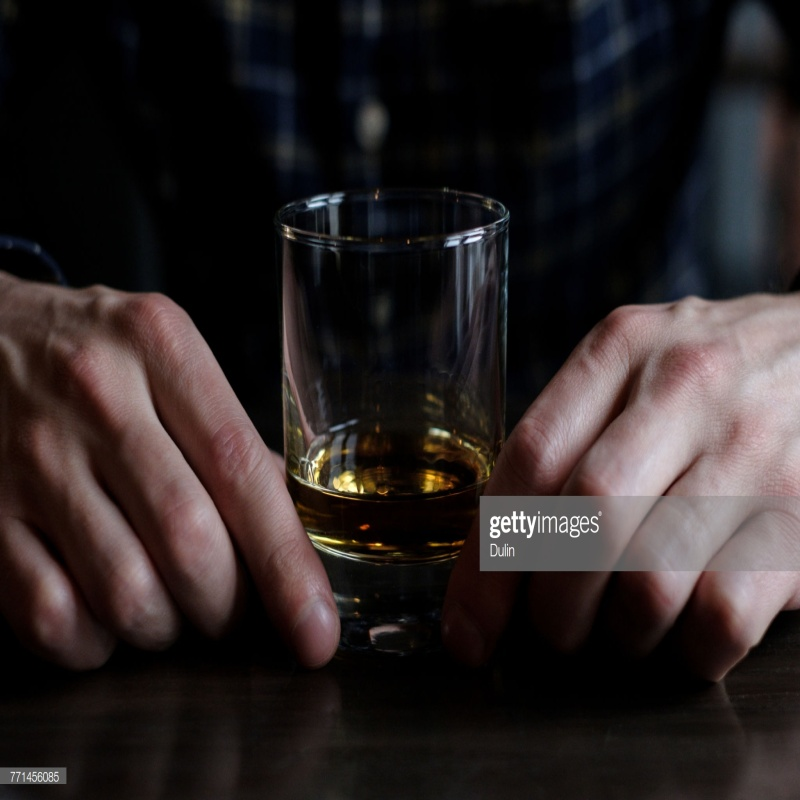whiskey: (282, 191, 508, 571)
